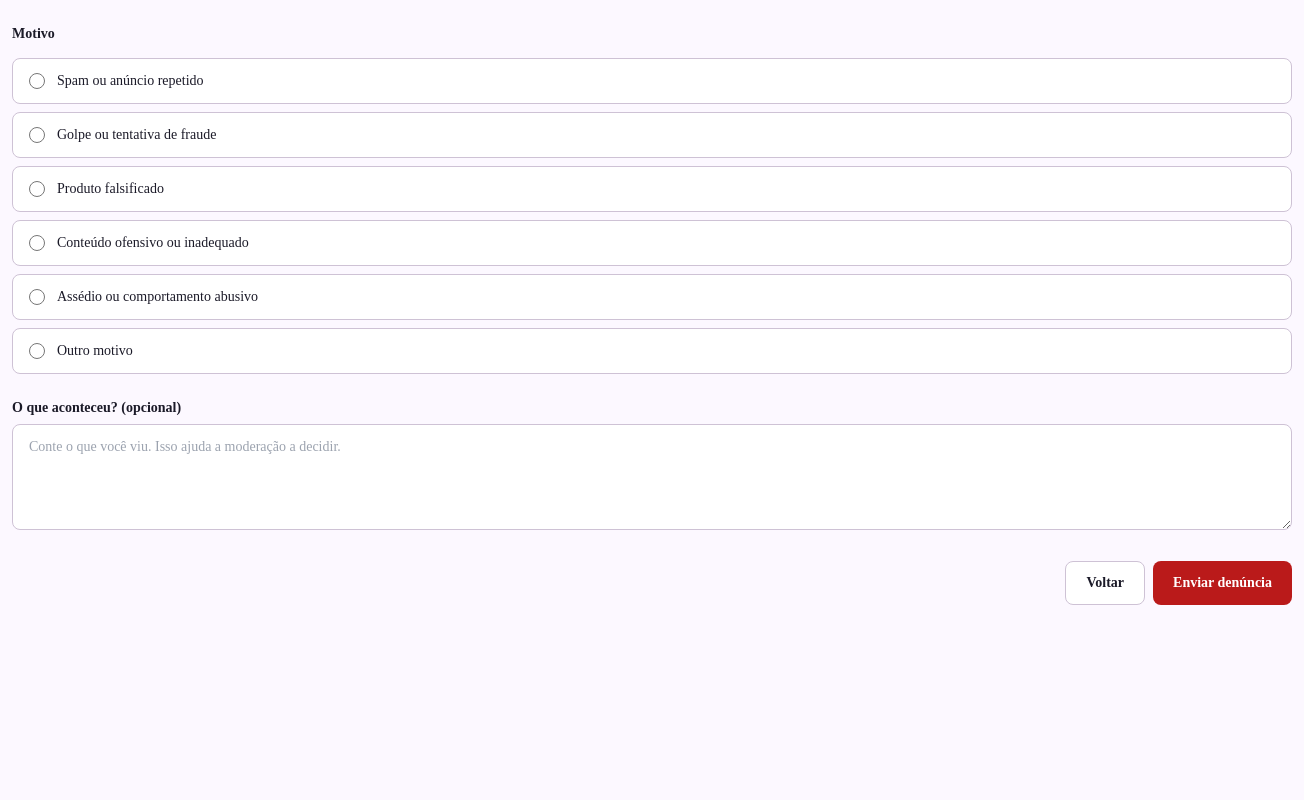
Test case: reports (VES-43) › shows the action's error
Click the radio button labelled "Spam ou anúncio repetido" at [37, 81], box [29,73,45,89]
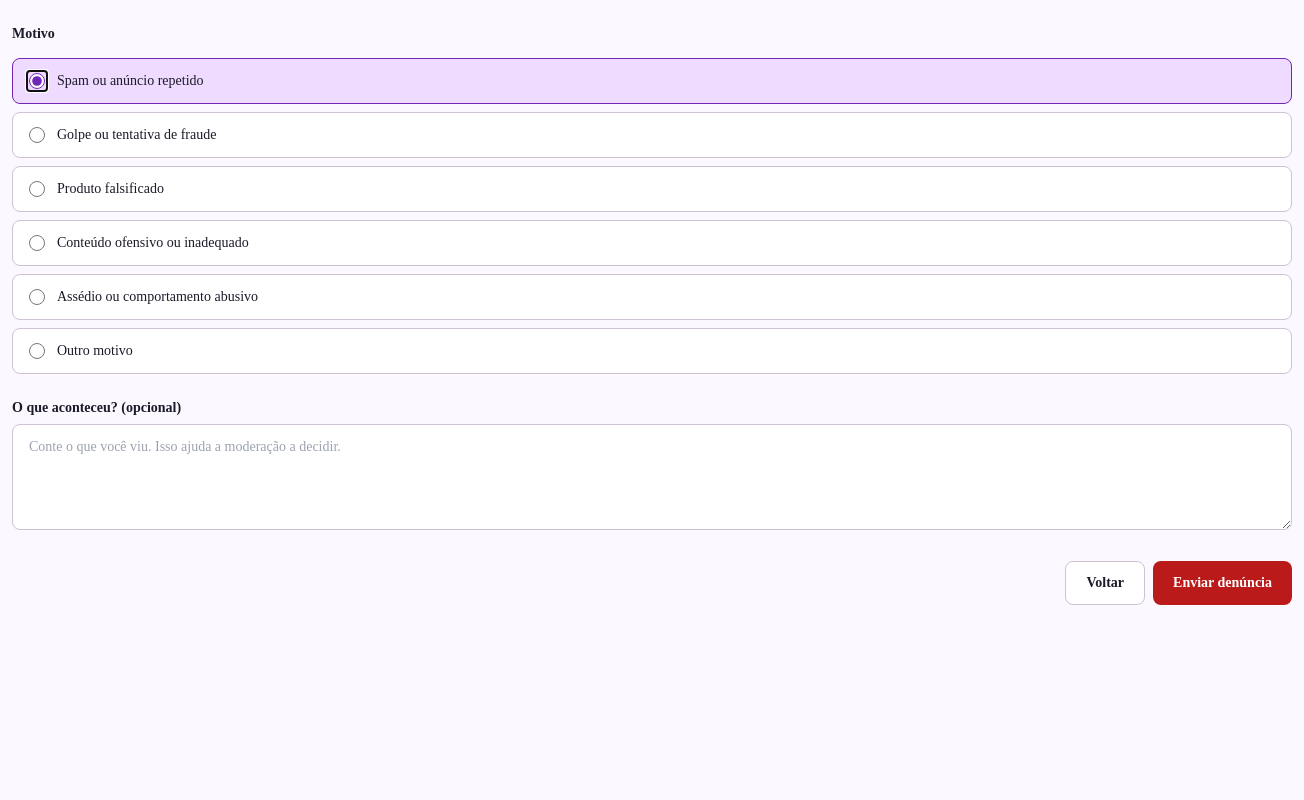
Click the button "Enviar denúncia" at [1223, 583], box [1153,561,1292,605]
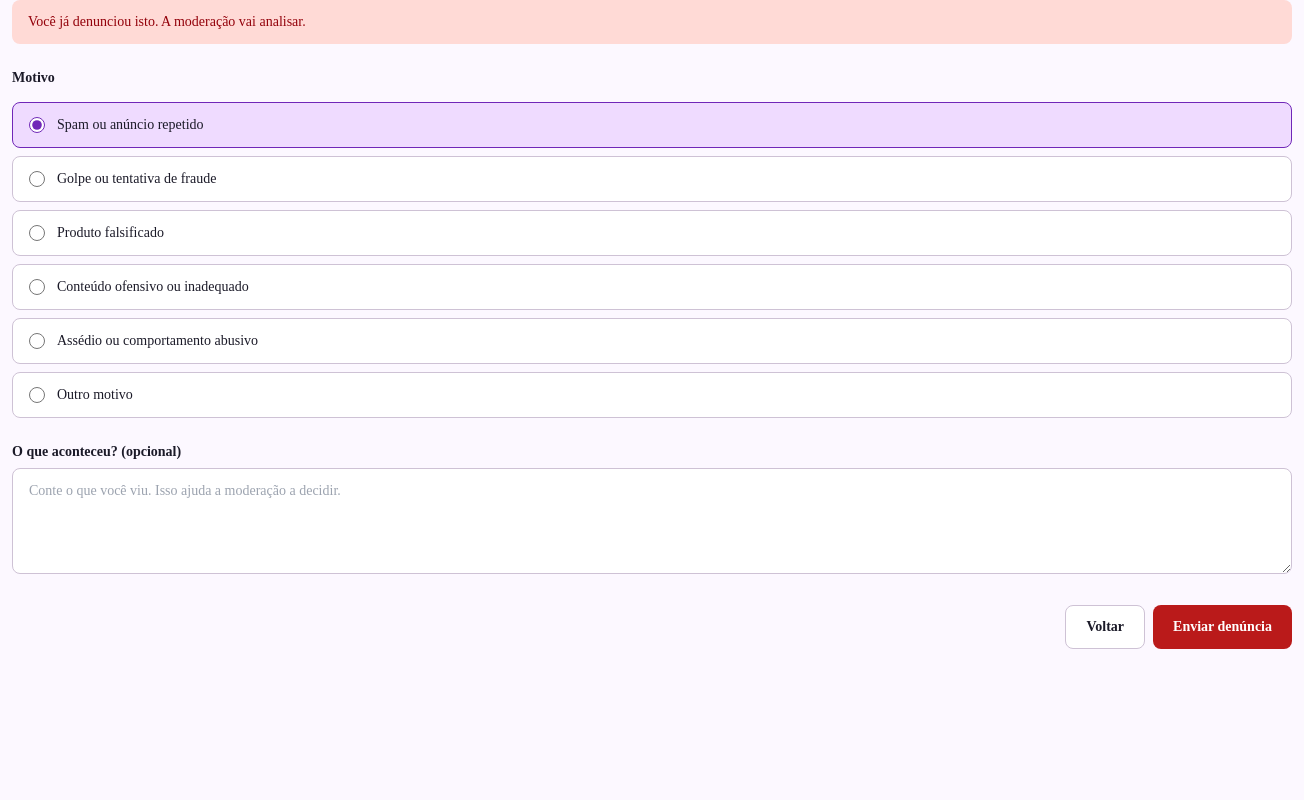
expect the message shows "Você já denunciou isto.": met, box [28,14,306,29]
